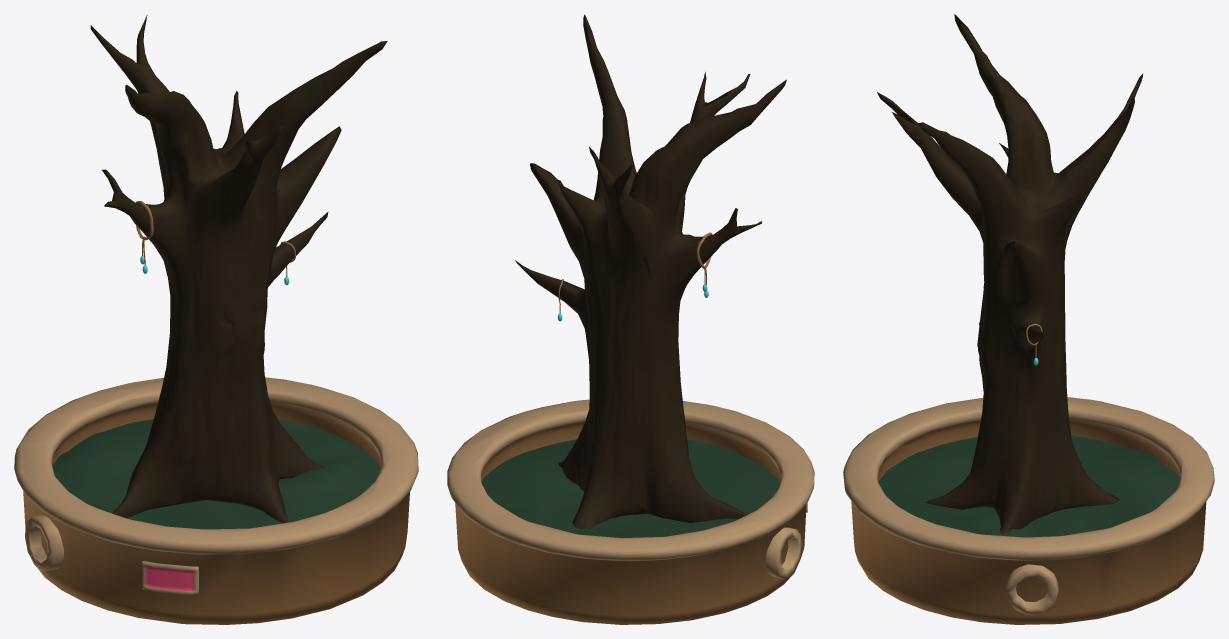
The model's file is LowPolyTree.fbx.
3 renders of one model, left to right at view 1: azimuth 30°, elevation 25°; view 2: azimuth 150°, elevation 25°; view 3: azimuth 270°, elevation 25°, orthographic. The views are drawn at different scales.
Parts seen in each view (by area): view 1: EnergyTree, Cylinder.013, Plane.007, Cube.006, Cylinder.015; view 2: EnergyTree, Cylinder.013, Plane.007, Cylinder.015; view 3: EnergyTree, Cylinder.013, Plane.007, Cylinder.014.
Part boxes in pixels (box(x1,y1,x2,y2)): EnergyTree: box(90, 15, 387, 523); Cylinder.013: box(14, 377, 418, 624); Plane.007: box(52, 419, 380, 529); Cube.006: box(142, 561, 198, 594); Cylinder.015: box(25, 514, 64, 570); EnergyTree: box(515, 14, 786, 528); Cylinder.013: box(447, 399, 814, 624); Plane.007: box(481, 439, 779, 538); Cylinder.015: box(765, 527, 801, 578); EnergyTree: box(877, 14, 1143, 534); Cylinder.013: box(843, 397, 1214, 624); Plane.007: box(878, 435, 1179, 537); Cylinder.014: box(1006, 564, 1058, 614).
Size of the model in its own units: 169 by 239 by 167.
